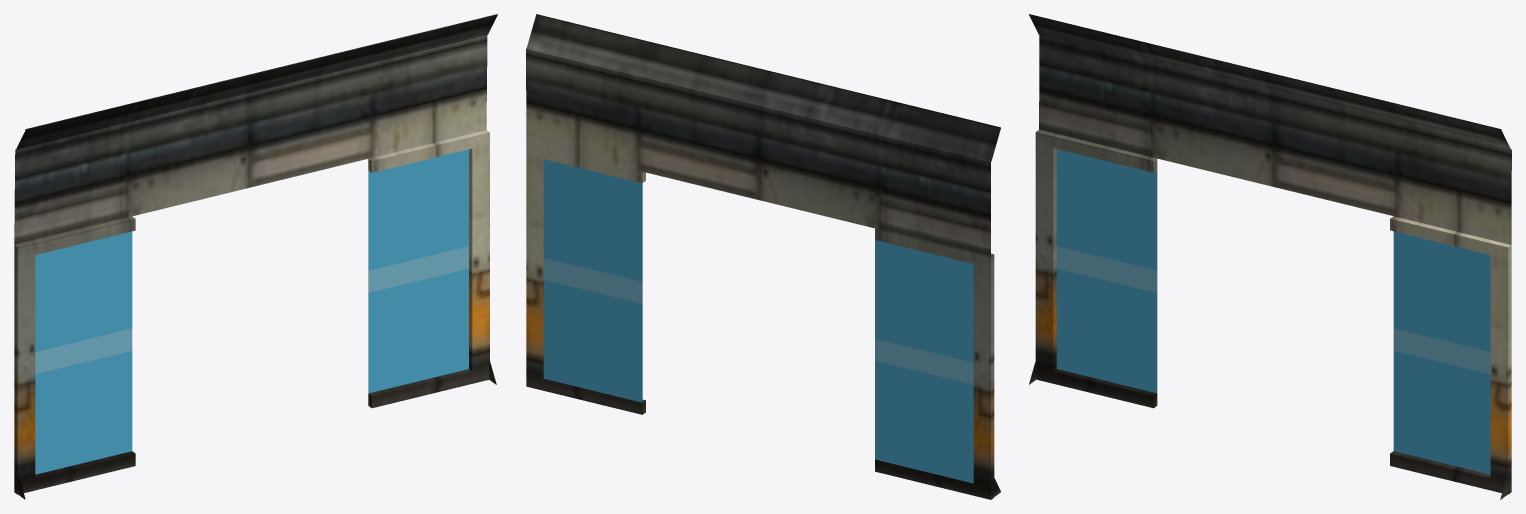
The model's file is wall_doors_noaccent.fbx.
3 renders of one model, left to right at view 1: azimuth 30°, elevation 25°; view 2: azimuth 150°, elevation 25°; view 3: azimuth 330°, elevation 25°, orthographic.
Visible parts, largest first — view 1: WideDoorNoAccent; view 2: WideDoorNoAccent; view 3: WideDoorNoAccent.
Boxes of the visible parts, box(x1,y1,x2,y2) form: WideDoorNoAccent: box(14, 14, 497, 499); WideDoorNoAccent: box(526, 14, 1000, 499); WideDoorNoAccent: box(1029, 14, 1511, 499).
Size of the model in its own units: 801 by 600 by 31.03.
Materials: 3 (1 with a texture image).
